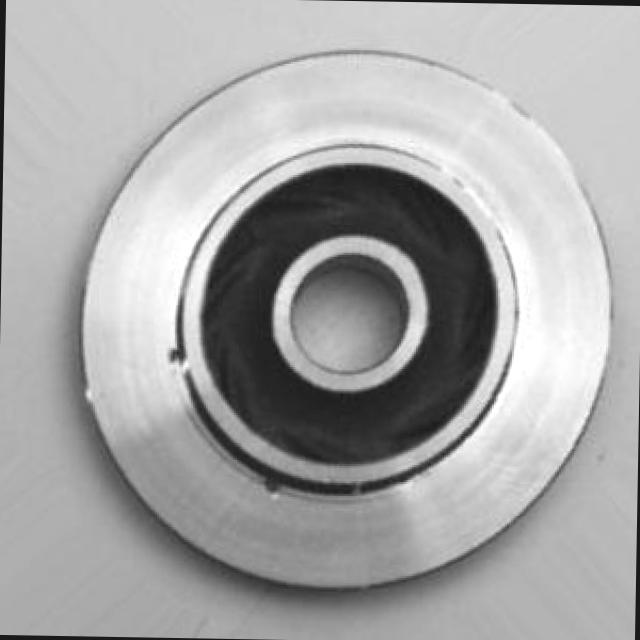Defect: (154, 338, 197, 373)
